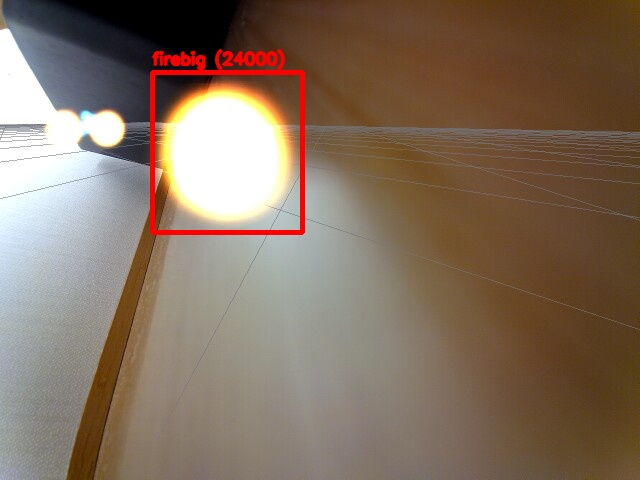firebig: (152, 72, 302, 232)
